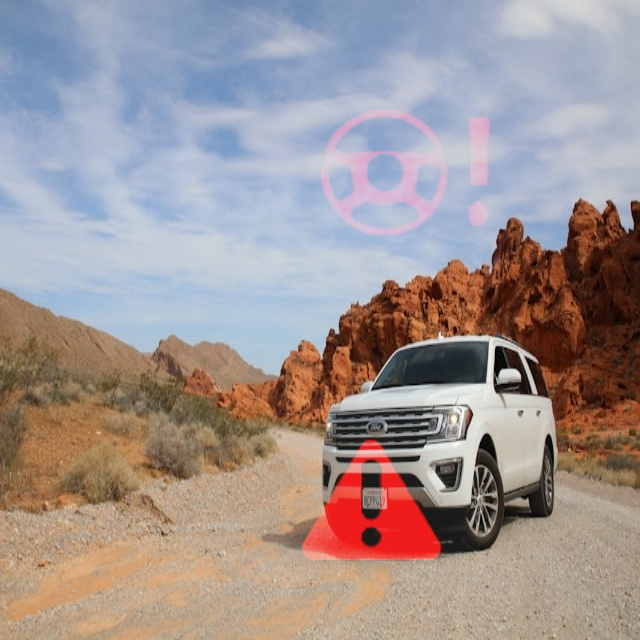symbol: (261, 392, 480, 611), (302, 70, 510, 278)
